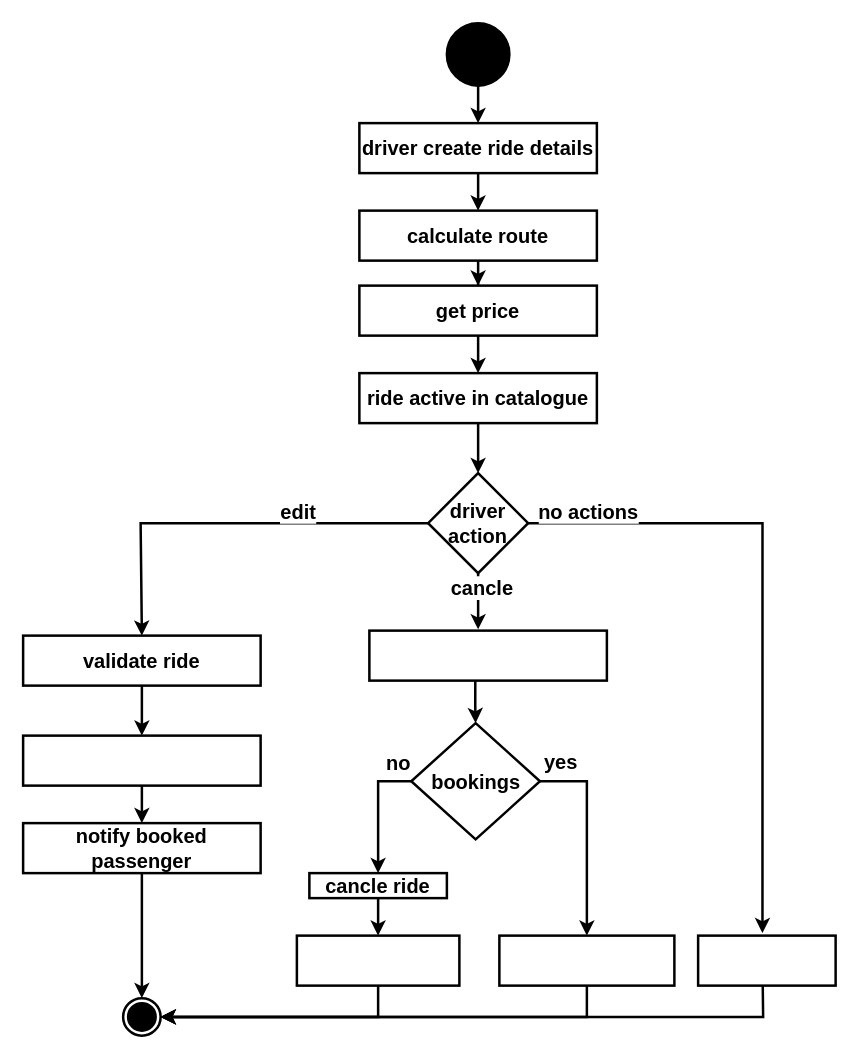
Image size: 858x1058. Some labels were removed from this diagram. Each missing label, with the centre of its shape:
check exisiting booking: (488,655)
monitor ride status: (766,960)
notify all passenger: (377,960)
notify booking exist: (586,960)
update ride: (141,760)
